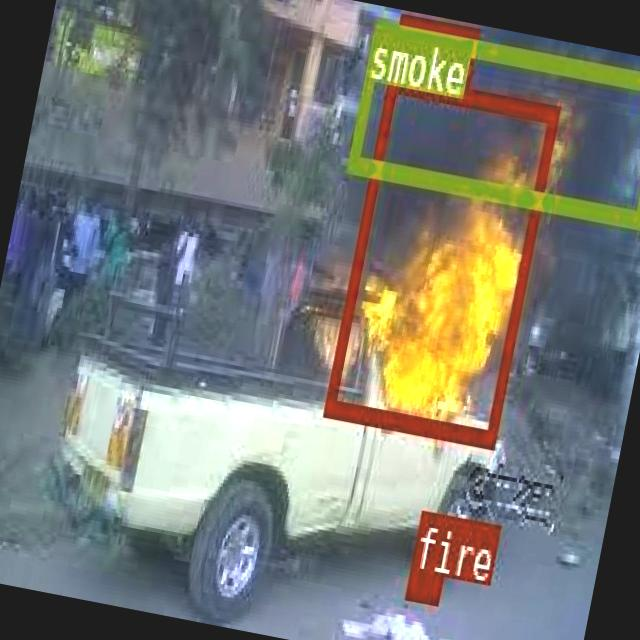fire: (324, 71, 558, 445), (405, 568, 441, 602)
smoke: (346, 17, 640, 224)
